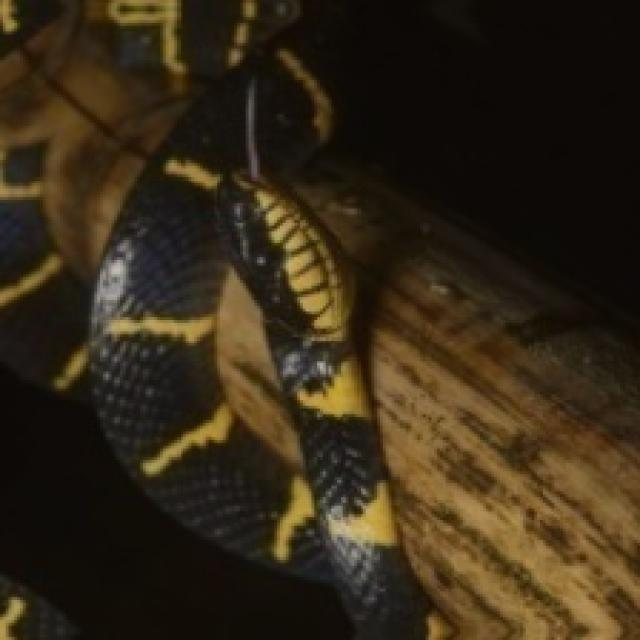mangrove cat snake: (0, 0, 440, 640)
